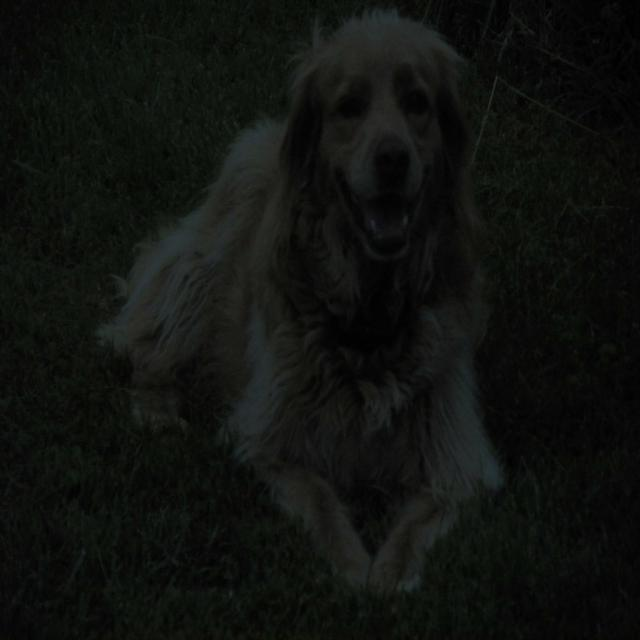Dog: (124, 16, 554, 592)
